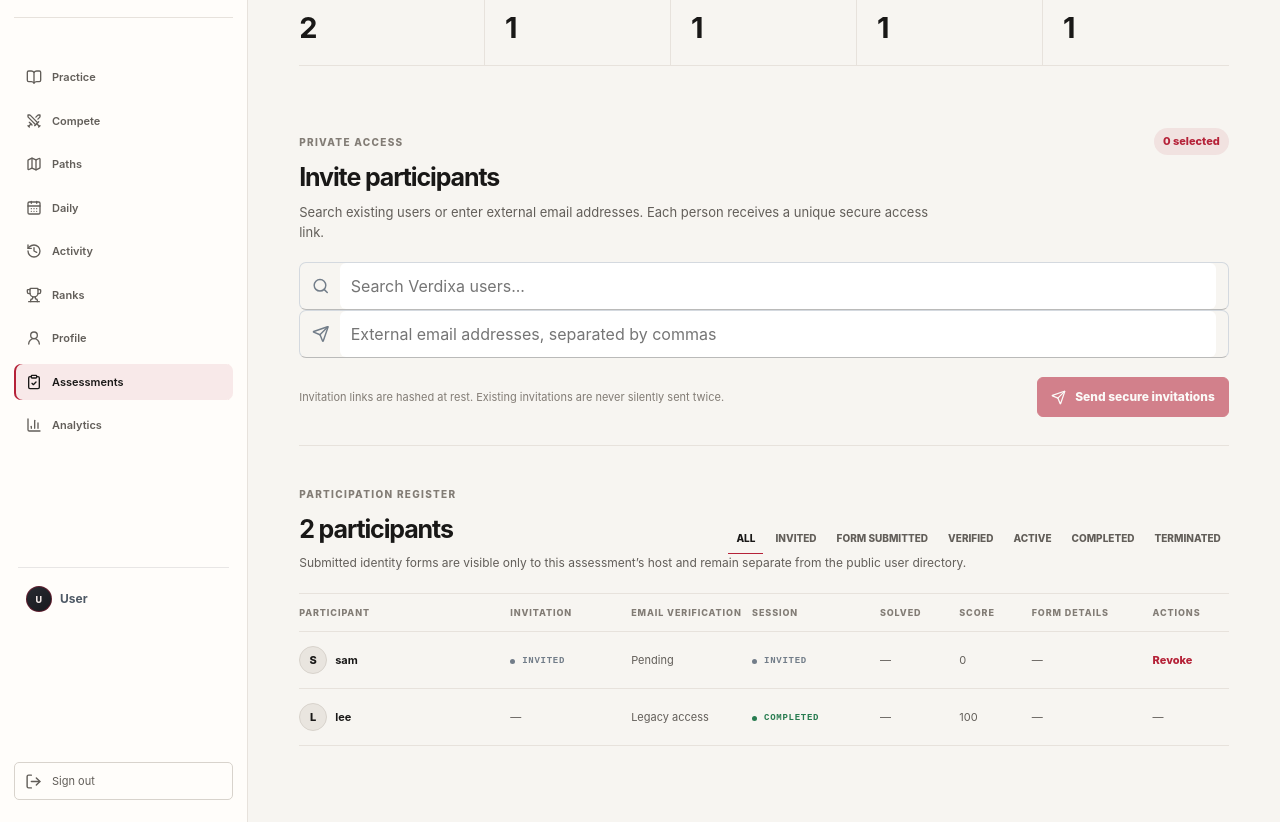
Scenario: filters the participation register using available participant status
(page scrolled)
Expected: the text "sam" is shown, [335,652,358,668]
Click the button "COMPLETED".
click(1103, 539)  # box [1064,525,1142,554]
(page scrolled)
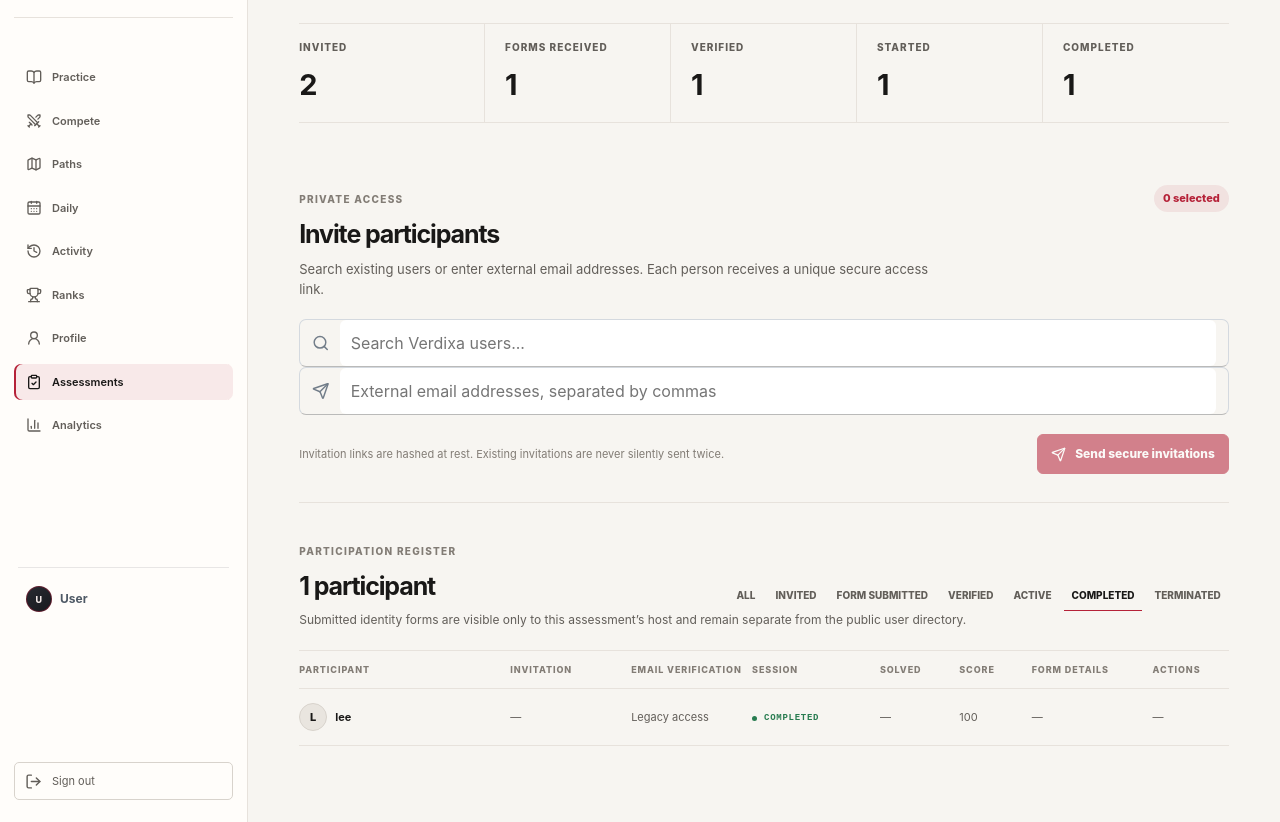
Expected: the text "lee" is shown, [335,708,351,725]
Now the text "sam" is gone
